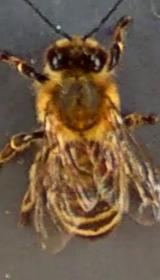varroa_mite: (93, 150, 122, 179)
